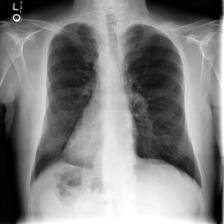normal: (28, 19, 204, 197)
